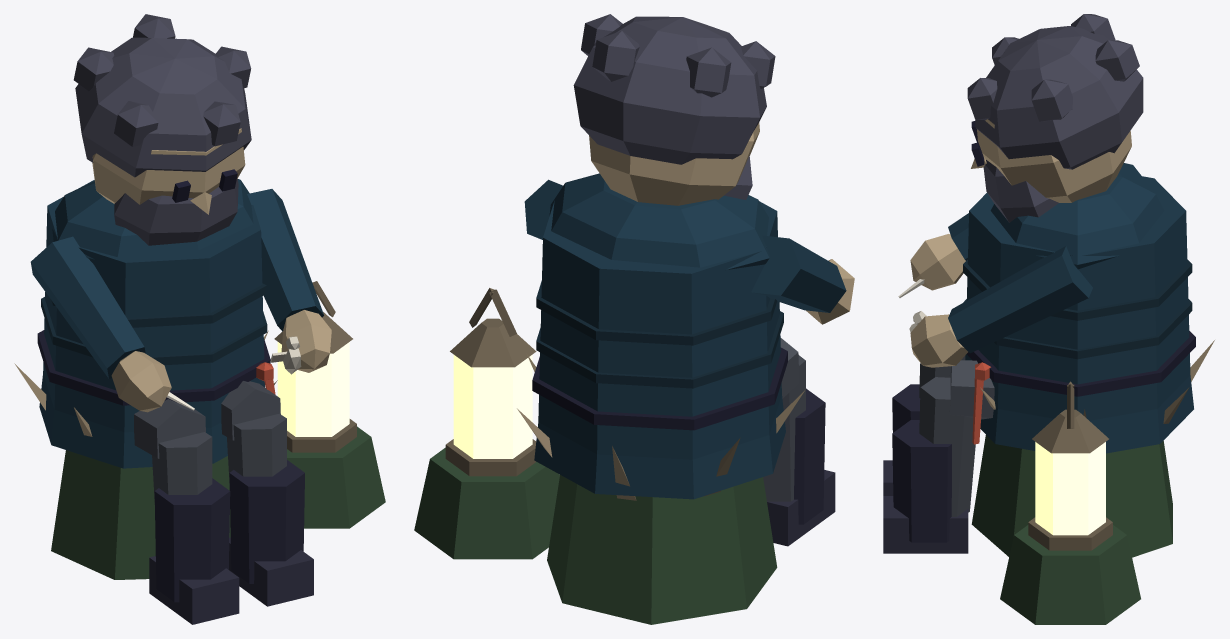
Rendered from dunstan_seated_cord.glb.
3 renders of one model, left to right at view 1: azimuth 30°, elevation 25°; view 2: azimuth 150°, elevation 25°; view 3: azimuth 270°, elevation 25°, orthographic. The views are drawn at different scales.
Visible parts, largest first — view 1: Torso, Head, Stool, LegR, LegL, ArmR, ArmL; view 2: Torso, Stool, Head, LegR, ArmR, ArmL; view 3: Torso, Stool, Head, LegL, ArmL, ArmR, LegR.
Part boxes in pixels (box(x1,y1,x2,y2)): Torso: box(37, 179, 275, 468); Head: box(73, 14, 251, 245); Stool: box(14, 281, 385, 579); LegR: box(134, 399, 239, 624); LegL: box(221, 381, 313, 606); ArmR: box(30, 236, 194, 412); ArmL: box(247, 189, 331, 374); Torso: box(532, 173, 787, 499); Stool: box(414, 288, 804, 624); Head: box(573, 14, 775, 205); LegR: box(763, 338, 835, 546); ArmR: box(751, 235, 854, 324); ArmL: box(524, 179, 562, 239); Torso: box(963, 163, 1195, 453); Stool: box(971, 340, 1214, 624); Head: box(967, 14, 1143, 222); LegL: box(883, 360, 994, 553); ArmL: box(909, 246, 1092, 367); ArmR: box(898, 213, 968, 297); LegR: box(883, 356, 965, 495).
Size of the model in its own units: 1.16 by 1.67 by 1.02.
